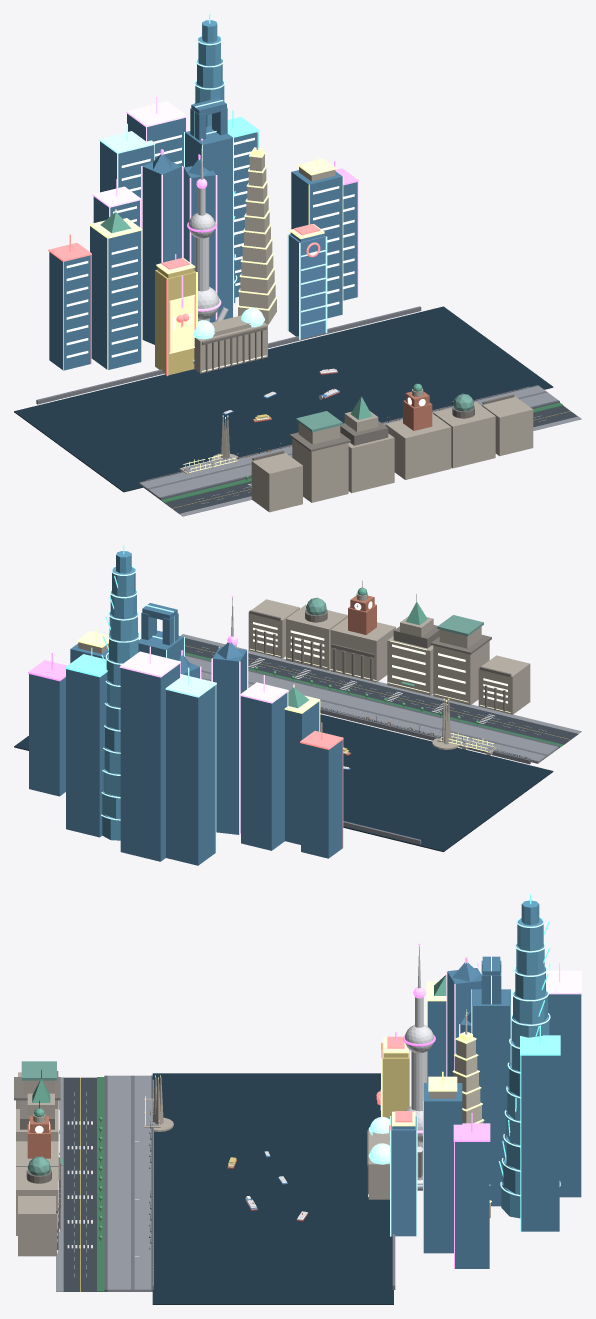
The model's file is plaza_environment.glb.
The picture shows the model from 3 angles, top to bottom: view 1: azimuth 30°, elevation 25°; view 2: azimuth 150°, elevation 25°; view 3: azimuth 270°, elevation 25°; orthographic projection. The views are drawn at different scales.
Visible parts, largest first — view 1: Huangpu_Deep_Channel_Bed, Pudong_Tower_ShangriLa, IFC_Tower1_Body, Pudong_Tower_Lujiazui_West1, SWFC_BaseBody, Pudong_Tower_BOC_Pudong, Citi_Body, Customs_MainBlock, Bund_ElevatedPromenade, Heritage_AsiaBldg_Body, BOC_Body, HSBC_Body (+18 smaller); view 2: Huangpu_Deep_Channel_Bed, Pudong_Tower_Lujiazui_North2, Pudong_Tower_Lujiazui_North1, Pudong_Tower_AuroraAnnex, Pudong_Tower_Lujiazui_East1, Bund_ElevatedPromenade, Zhongshan_Road_Asphalt, IFC_Tower1_Body, Pudong_Tower_Lujiazui_West1, Pudong_Tower_Lujiazui_East2, Pudong_Tower_ShangriLa, Customs_MainBlock (+31 smaller); view 3: Huangpu_Deep_Channel_Bed, Bund_ElevatedPromenade, Zhongshan_Road_Asphalt, Pudong_Tower_Lujiazui_East1, SWFC_BaseBody, Pudong_Tower_BOC_Pudong, Pudong_Tower_Lujiazui_North2, Pudong_Tower_Lujiazui_East2, Citi_Body, Heritage_CharteredBank_Body, IFC_Tower1_Body, Aurora_Body (+21 smaller).
Part boxes in pixels (<box>): Huangpu_Deep_Channel_Bed: <box>14,306,553,492</box>; Pudong_Tower_ShangriLa: <box>90,226,141,369</box>; IFC_Tower1_Body: <box>142,162,181,344</box>; Pudong_Tower_Lujiazui_West1: <box>49,252,90,370</box>; SWFC_BaseBody: <box>185,125,232,319</box>; Pudong_Tower_BOC_Pudong: <box>291,170,342,318</box>; Citi_Body: <box>288,234,325,338</box>; Customs_MainBlock: <box>385,413,451,479</box>; Bund_ElevatedPromenade: <box>139,385,557,499</box>; Heritage_AsiaBldg_Body: <box>251,452,302,512</box>; BOC_Body: <box>292,438,348,502</box>; HSBC_Body: <box>433,402,495,468</box>; Huangpu_Deep_Channel_Bed: <box>14,714,553,851</box>; Pudong_Tower_Lujiazui_North2: <box>120,664,179,861</box>; Pudong_Tower_Lujiazui_North1: <box>166,685,215,865</box>; Pudong_Tower_AuroraAnnex: <box>241,693,287,850</box>; Pudong_Tower_Lujiazui_East1: <box>66,669,107,837</box>; Bund_ElevatedPromenade: <box>185,656,558,763</box>; Zhongshan_Road_Asphalt: <box>185,638,577,744</box>; IFC_Tower1_Body: <box>213,647,246,834</box>; Pudong_Tower_Lujiazui_West1: <box>301,740,342,858</box>; Pudong_Tower_Lujiazui_East2: <box>29,674,65,796</box>; Pudong_Tower_ShangriLa: <box>285,701,319,844</box>; Customs_MainBlock: <box>330,617,395,682</box>; Huangpu_Deep_Channel_Bed: <box>152,1073,393,1304</box>; Bund_ElevatedPromenade: <box>107,1075,152,1291</box>; Zhongshan_Road_Asphalt: <box>63,1077,96,1291</box>; Pudong_Tower_Lujiazui_East1: <box>521,1055,559,1231</box>; SWFC_BaseBody: <box>472,989,510,1206</box>; Pudong_Tower_BOC_Pudong: <box>423,1083,462,1253</box>; Pudong_Tower_Lujiazui_North2: <box>548,994,581,1197</box>; Pudong_Tower_Lujiazui_East2: <box>455,1142,489,1268</box>; Citi_Body: <box>391,1116,416,1236</box>; Heritage_CharteredBank_Body: <box>18,1196,56,1256</box>; IFC_Tower1_Body: <box>447,968,481,1076</box>; Aurora_Body: <box>382,1043,409,1118</box>.
Bounding box in the file's own units: 280 × 180 × 291.
